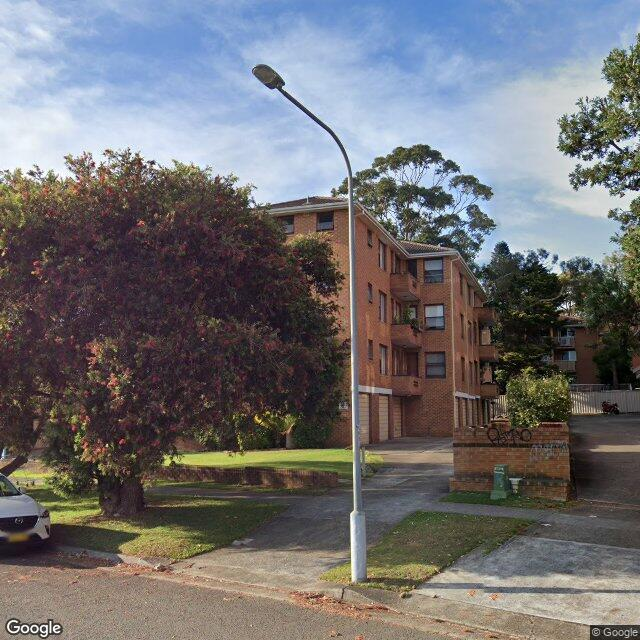steel-pole: (348, 173, 367, 582)
streetlight: (252, 64, 351, 176)
